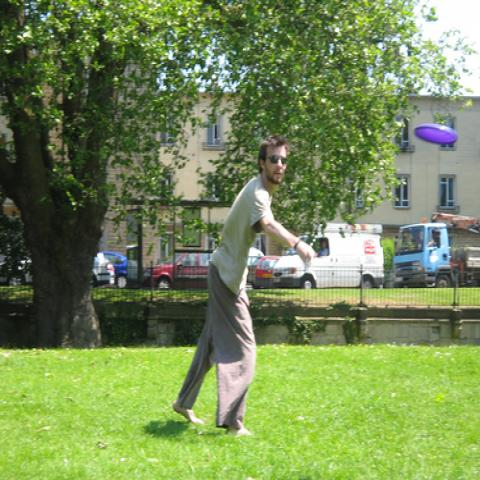car: (143, 251, 214, 288), (93, 252, 138, 288), (255, 257, 282, 289)
truck: (273, 222, 387, 290), (393, 216, 464, 288)
